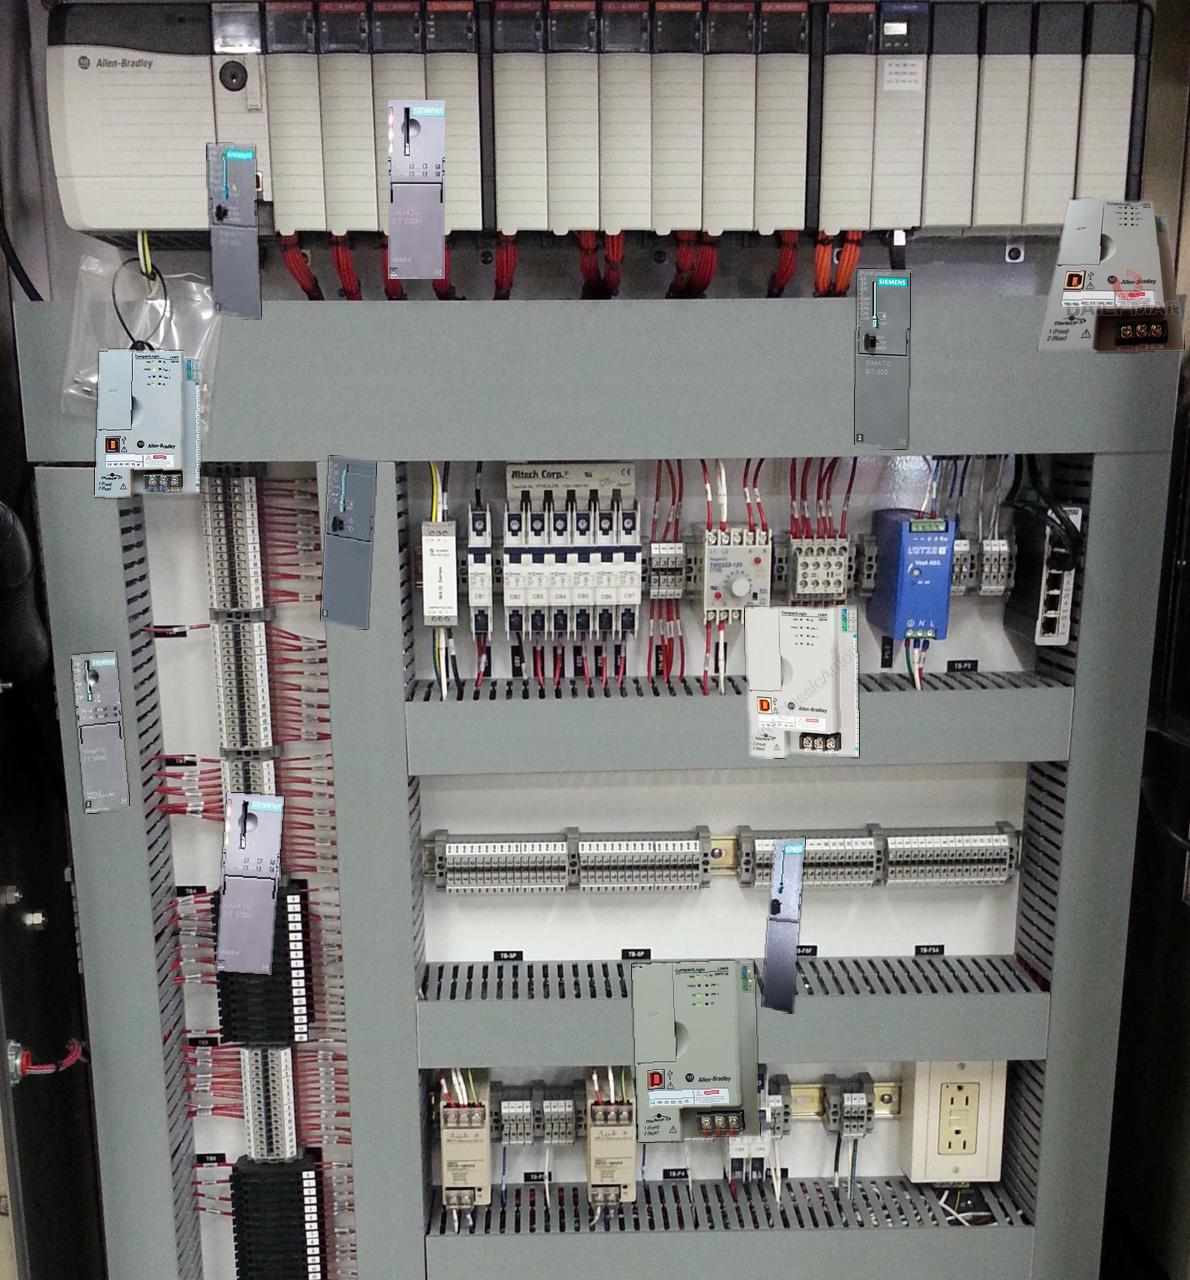AllenBradley: (632, 961, 759, 1141), (1038, 199, 1183, 351), (745, 606, 858, 757), (94, 349, 200, 497)
Siemens: (854, 269, 910, 448), (321, 456, 375, 628), (207, 144, 259, 317), (762, 837, 804, 1013)
